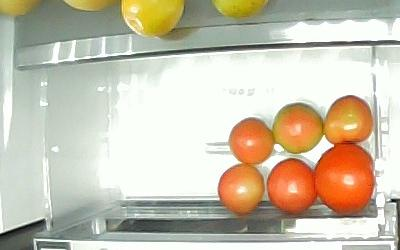tomato: (313, 141, 375, 215), (265, 157, 317, 213), (270, 101, 324, 154), (321, 94, 373, 144), (217, 162, 265, 214), (227, 116, 275, 165)
